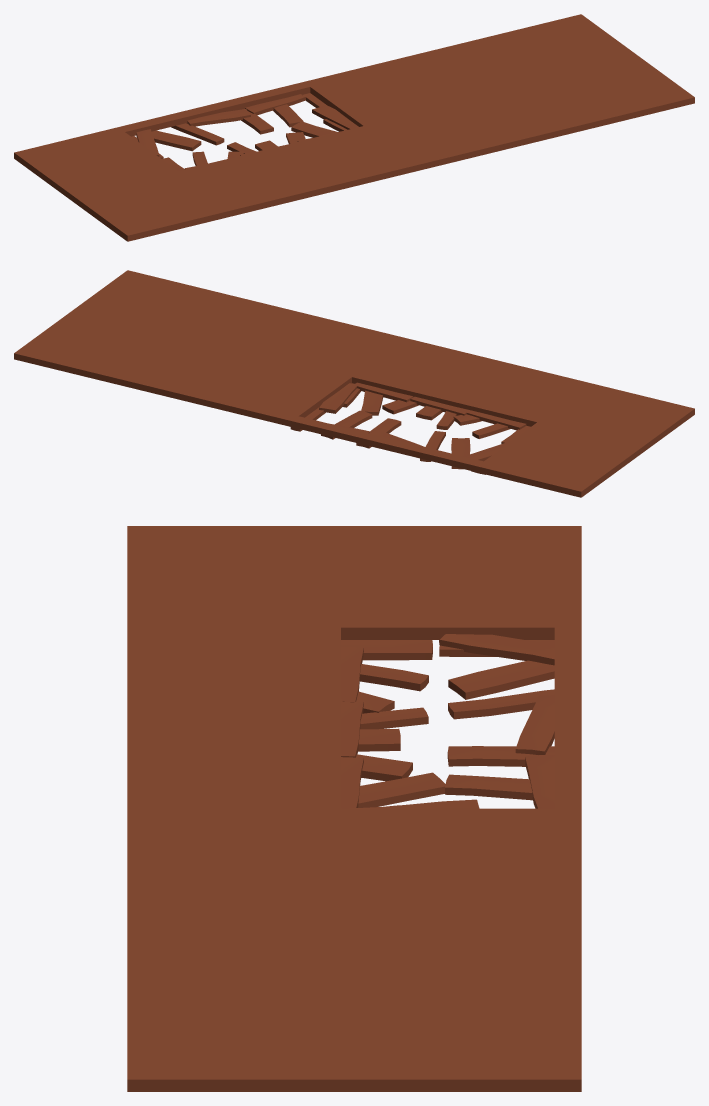
File: Ceiling_Broken_mdl.fbx
The picture shows the model from 3 angles, top to bottom: view 1: azimuth 30°, elevation 25°; view 2: azimuth 150°, elevation 25°; view 3: azimuth 270°, elevation 25°; orthographic projection. The views are drawn at different scales.
Parts seen in each view (by area): view 1: Ceiling_Broken_mdl; view 2: Ceiling_Broken_mdl; view 3: Ceiling_Broken_mdl.
Boxes of the visible parts, bbox=[...] form: Ceiling_Broken_mdl: bbox=[14, 14, 694, 241]; Ceiling_Broken_mdl: bbox=[14, 270, 694, 497]; Ceiling_Broken_mdl: bbox=[127, 526, 581, 1091].
Bounding box in the file's own units: 49 × 0.827 × 17.
